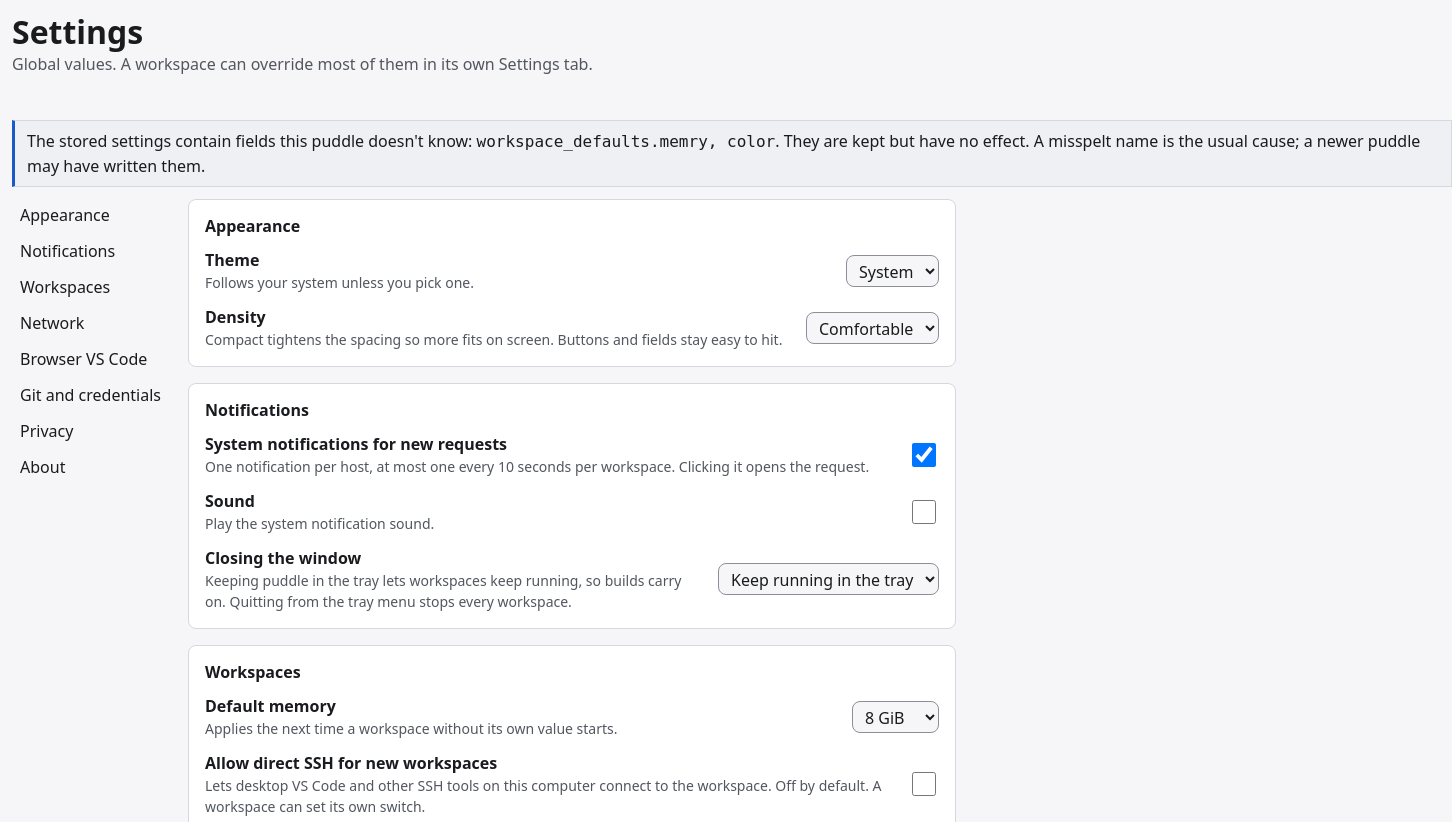
Test: appearance and notifications › says when the density applied but could not be stored
Expected: the heading "Appearance" is shown, x1=205 y1=215 x2=300 y2=237
Select "Compact" in the dropdown labelled "Density". click: (872,328)
box: x1=806 y1=312 x2=939 y2=344
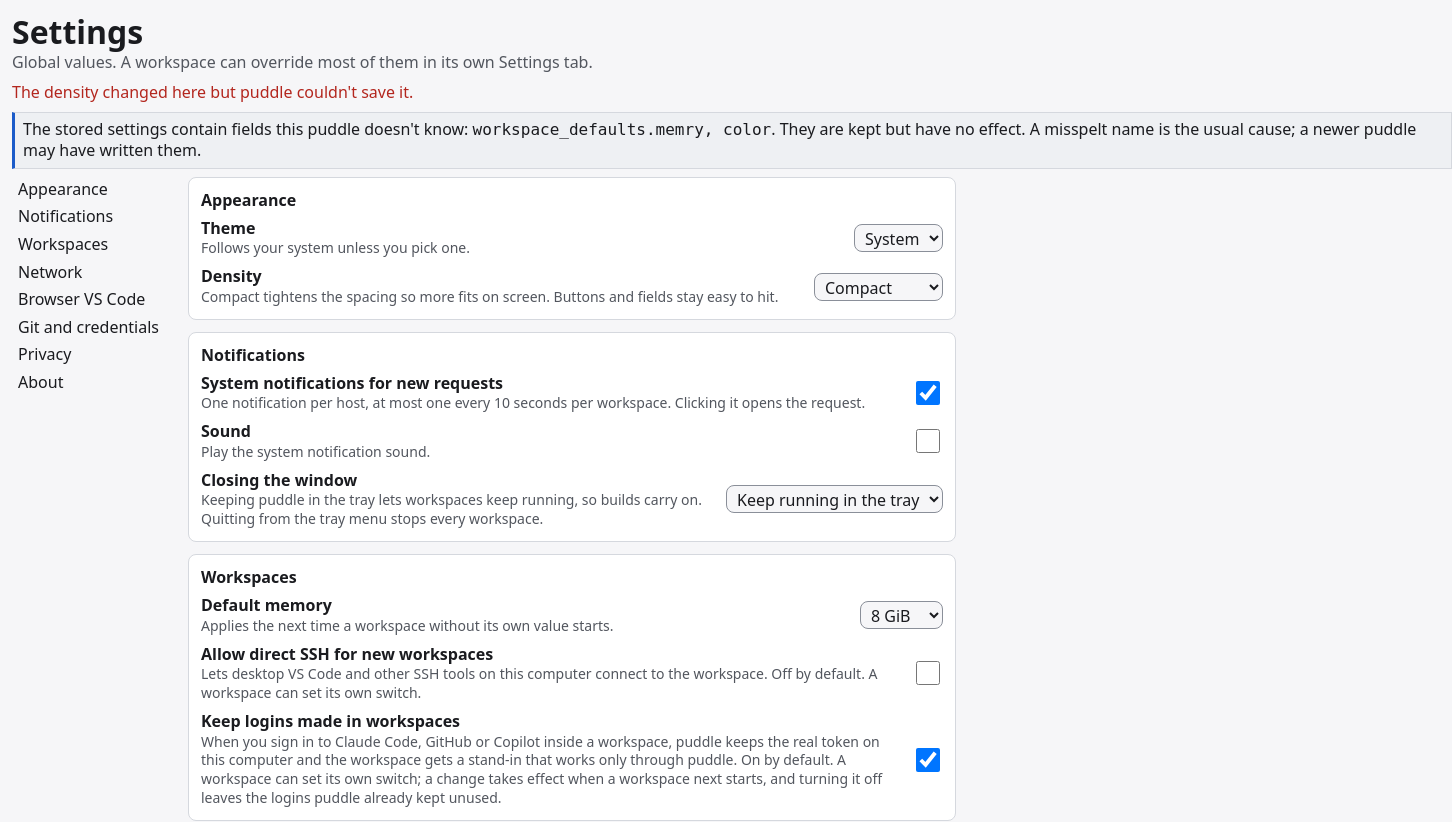
Now the message "The density changed here but puddle couldn't save it." is shown, box x1=12 y1=81 x2=413 y2=103
